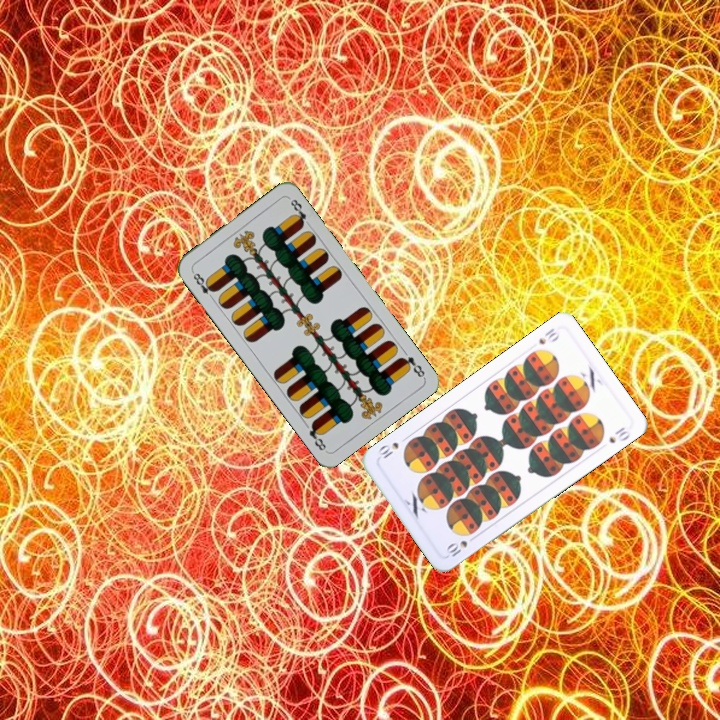E8: (188, 267, 218, 302), (396, 352, 428, 380)
S10: (442, 536, 470, 560), (534, 324, 562, 347)
